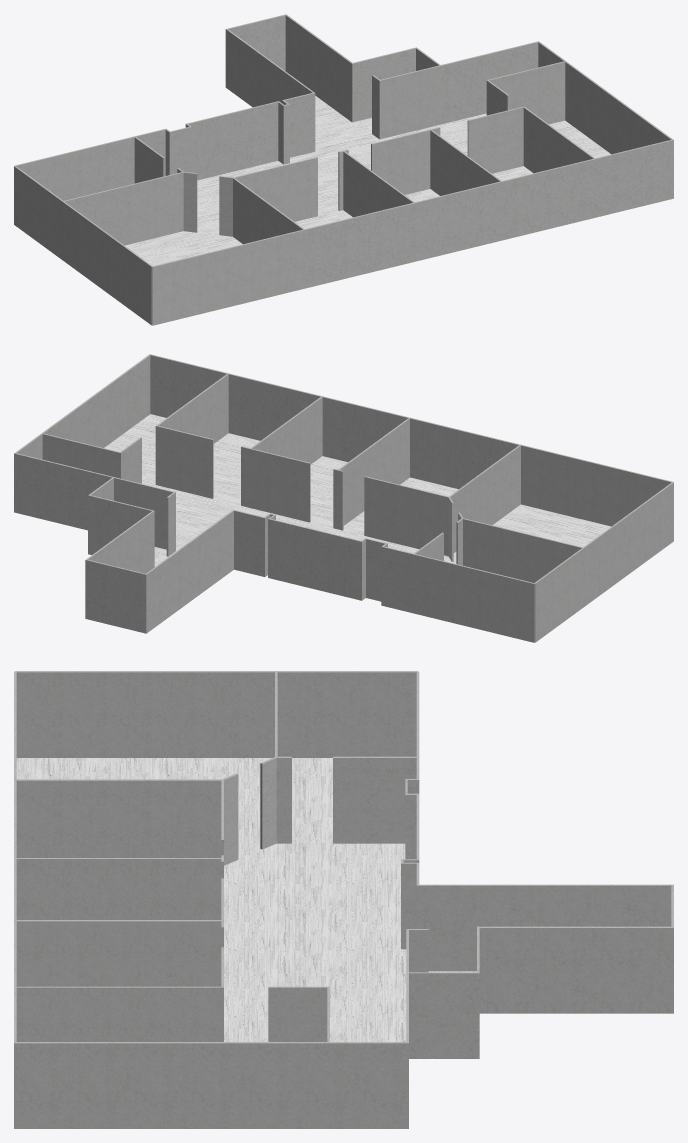
File: willowgarage_visual.dae
3 renders of one model, top to bottom at view 1: azimuth 30°, elevation 25°; view 2: azimuth 150°, elevation 25°; view 3: azimuth 270°, elevation 25°, orthographic. The views are drawn at different scales.
Visible parts, largest first — view 1: node5, node7, node2; view 2: node5, node7, node2; view 3: node5, node7, node2.
Boxes of the visible parts, bbox=[...] form: node5: bbox=[14, 61, 594, 325]; node7: bbox=[135, 14, 673, 288]; node2: bbox=[125, 96, 610, 265]; node5: bbox=[42, 373, 673, 642]; node7: bbox=[14, 354, 520, 633]; node2: bbox=[104, 414, 611, 566]; node5: bbox=[14, 671, 428, 1042]; node7: bbox=[14, 757, 673, 1128]; node2: bbox=[16, 758, 476, 1041].
Bounding box in the file's own units: 17.44 × 13.07 × 1.87.
2 materials, 2 textured.
